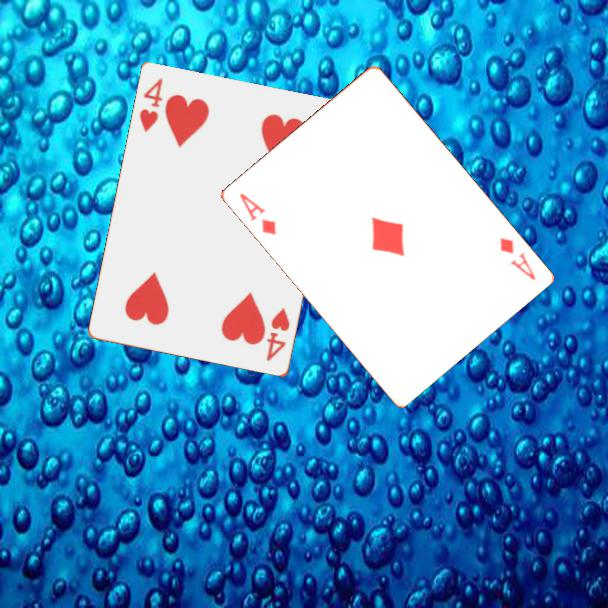d01: (235, 189, 279, 238), (496, 234, 539, 283)
h04: (263, 304, 293, 365), (136, 75, 166, 136)
